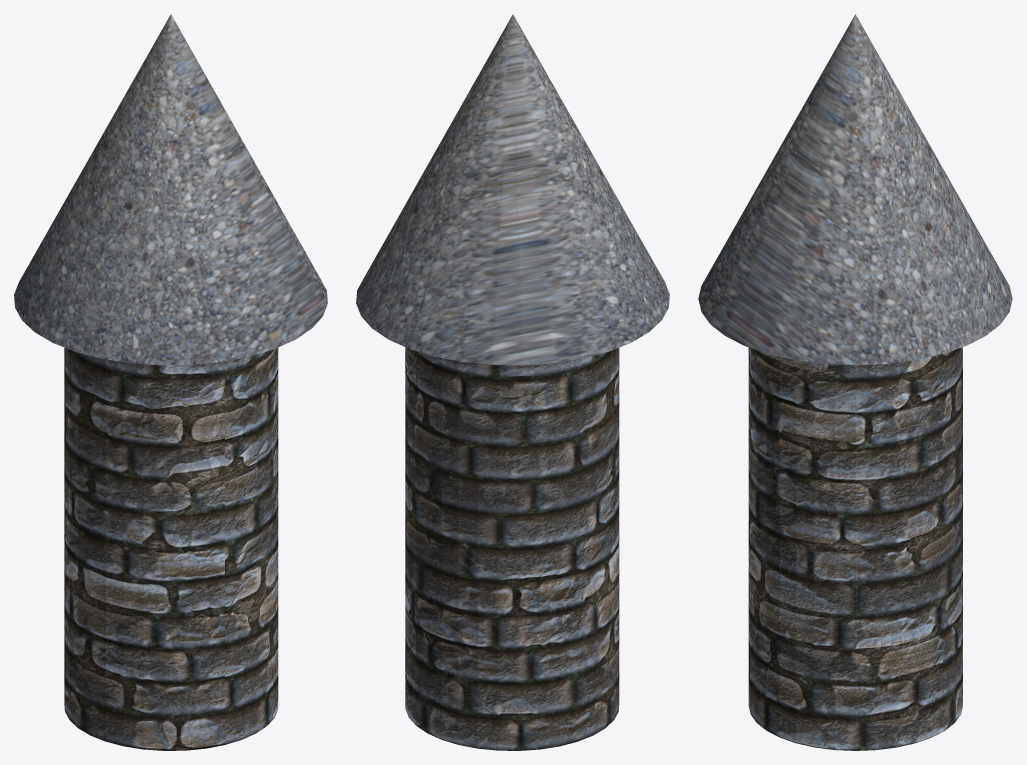
File: tower 1_1.fbx
The picture shows the model from 3 angles, left to right: view 1: azimuth 30°, elevation 25°; view 2: azimuth 150°, elevation 25°; view 3: azimuth 270°, elevation 25°; orthographic projection.
Parts seen in each view (by area): view 1: Cylinder; view 2: Cylinder; view 3: Cylinder.
Boxes of the visible parts, x1=… form: Cylinder: x1=14, y1=14, x2=327, y2=750; Cylinder: x1=356, y1=14, x2=669, y2=750; Cylinder: x1=698, y1=14, x2=1012, y2=750.
Size of the model in its own units: 2.93 by 7.12 by 2.93.
